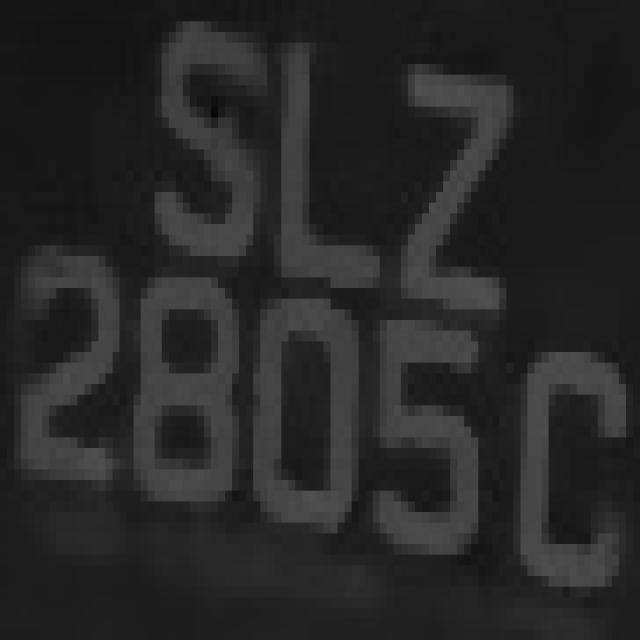0: (239, 288, 359, 544)
2: (0, 213, 134, 491)
5: (359, 278, 485, 598)
8: (120, 224, 239, 512)
C: (492, 310, 626, 630)
L: (253, 11, 394, 330)
S: (141, 10, 267, 298)
Z: (387, 11, 513, 384)
